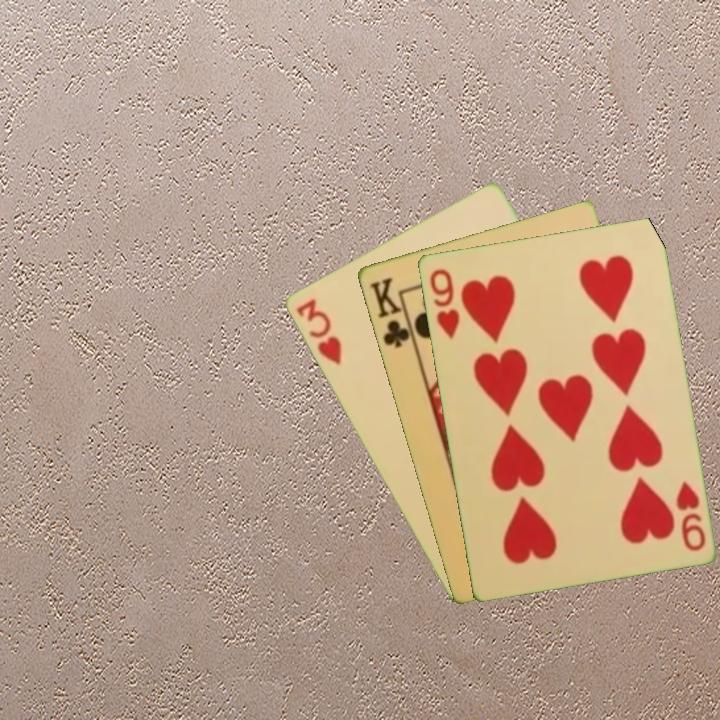3h: (292, 295, 344, 368)
9h: (672, 477, 708, 554), (426, 265, 462, 341)
Kc: (366, 273, 417, 351)
